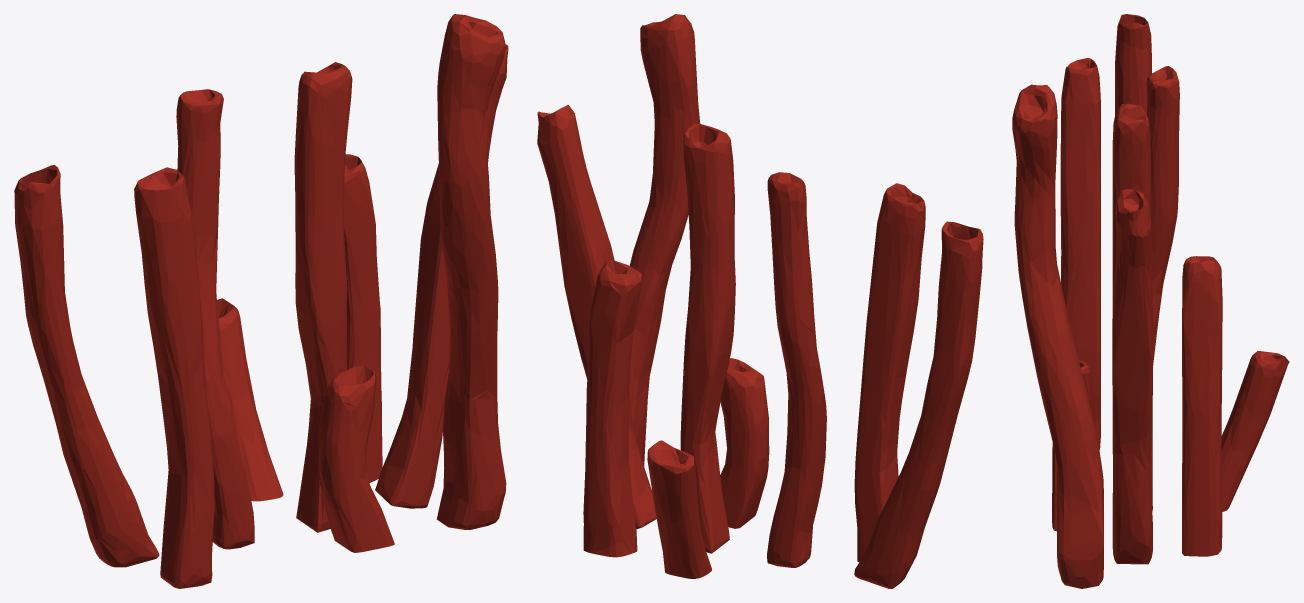
The model's file is Plant5.fbx.
3 renders of one model, left to right at view 1: azimuth 30°, elevation 25°; view 2: azimuth 150°, elevation 25°; view 3: azimuth 270°, elevation 25°, orthographic. The views are drawn at different scales.
Visible parts, largest first — view 1: pCube12; view 2: pCube12; view 3: pCube12.
Boxes of the visible parts, bbox=[...] form: pCube12: bbox=[14, 14, 508, 588]; pCube12: bbox=[537, 14, 983, 588]; pCube12: bbox=[1012, 14, 1289, 588].
Bounding box in the file's own units: 4.02 × 4.21 × 2.19.
